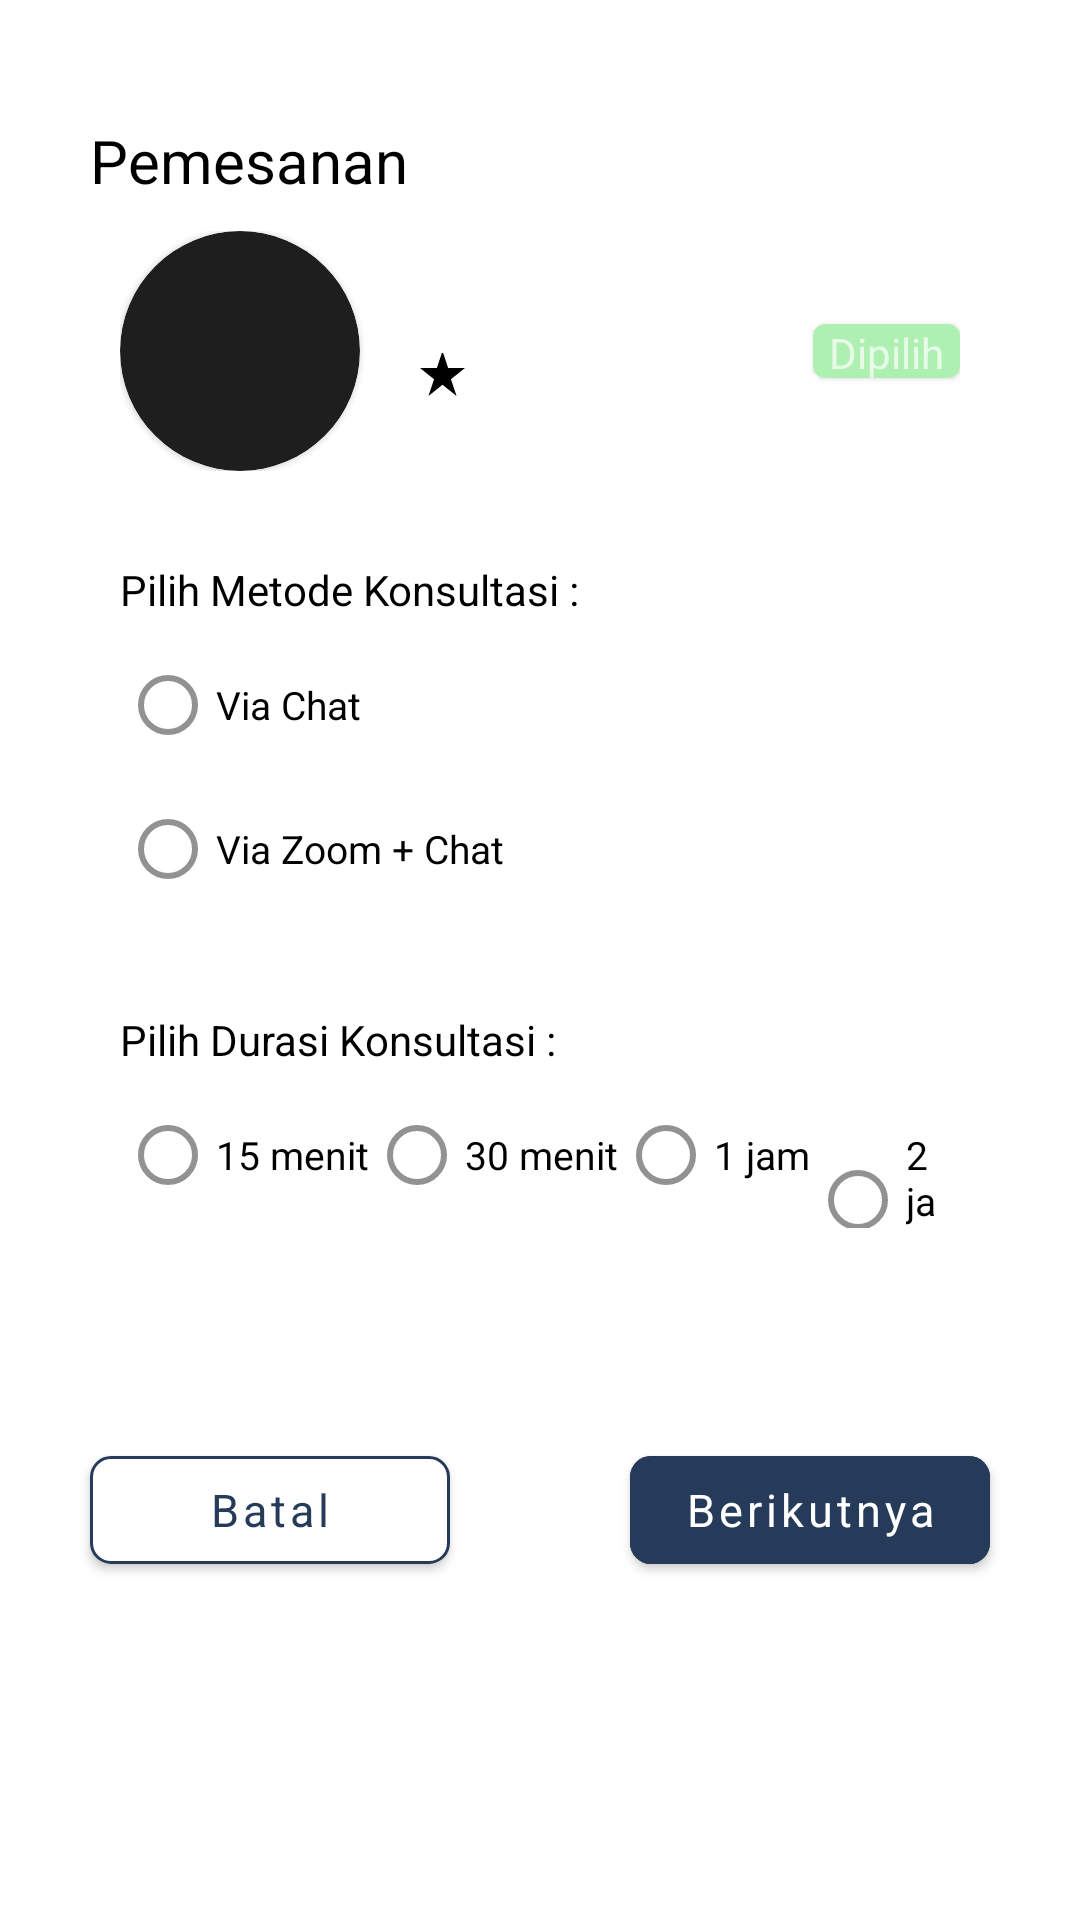

Icons on this 1080 x 1920 Android screen, each with the point to tap as point (x, y):
star: point (442, 374)
